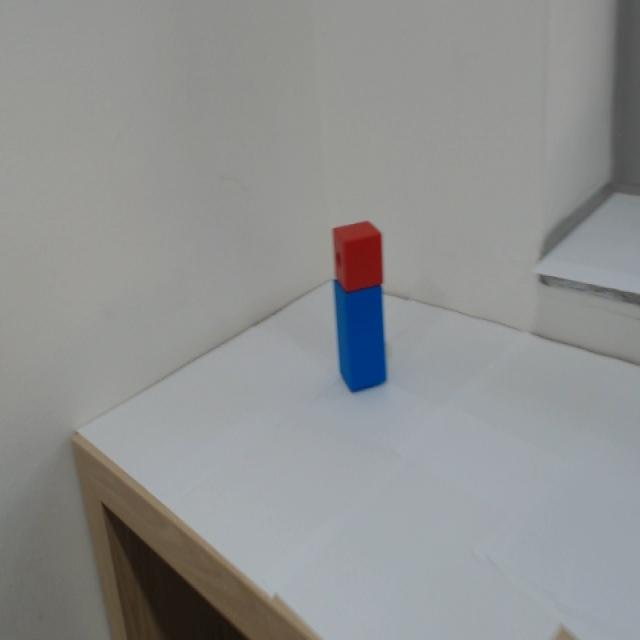cube: (330, 219, 398, 303)
